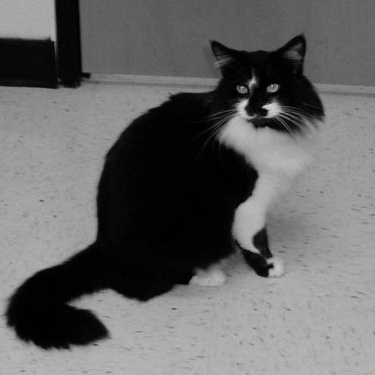cat: (1, 34, 332, 350)
